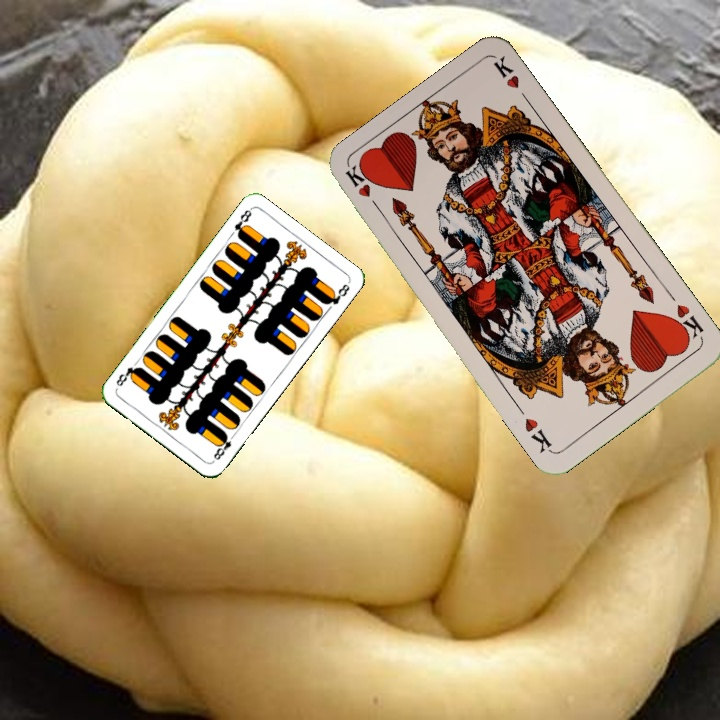E8: (209, 429, 238, 463), (230, 205, 254, 241)
HK: (342, 162, 385, 216), (667, 300, 706, 345)
